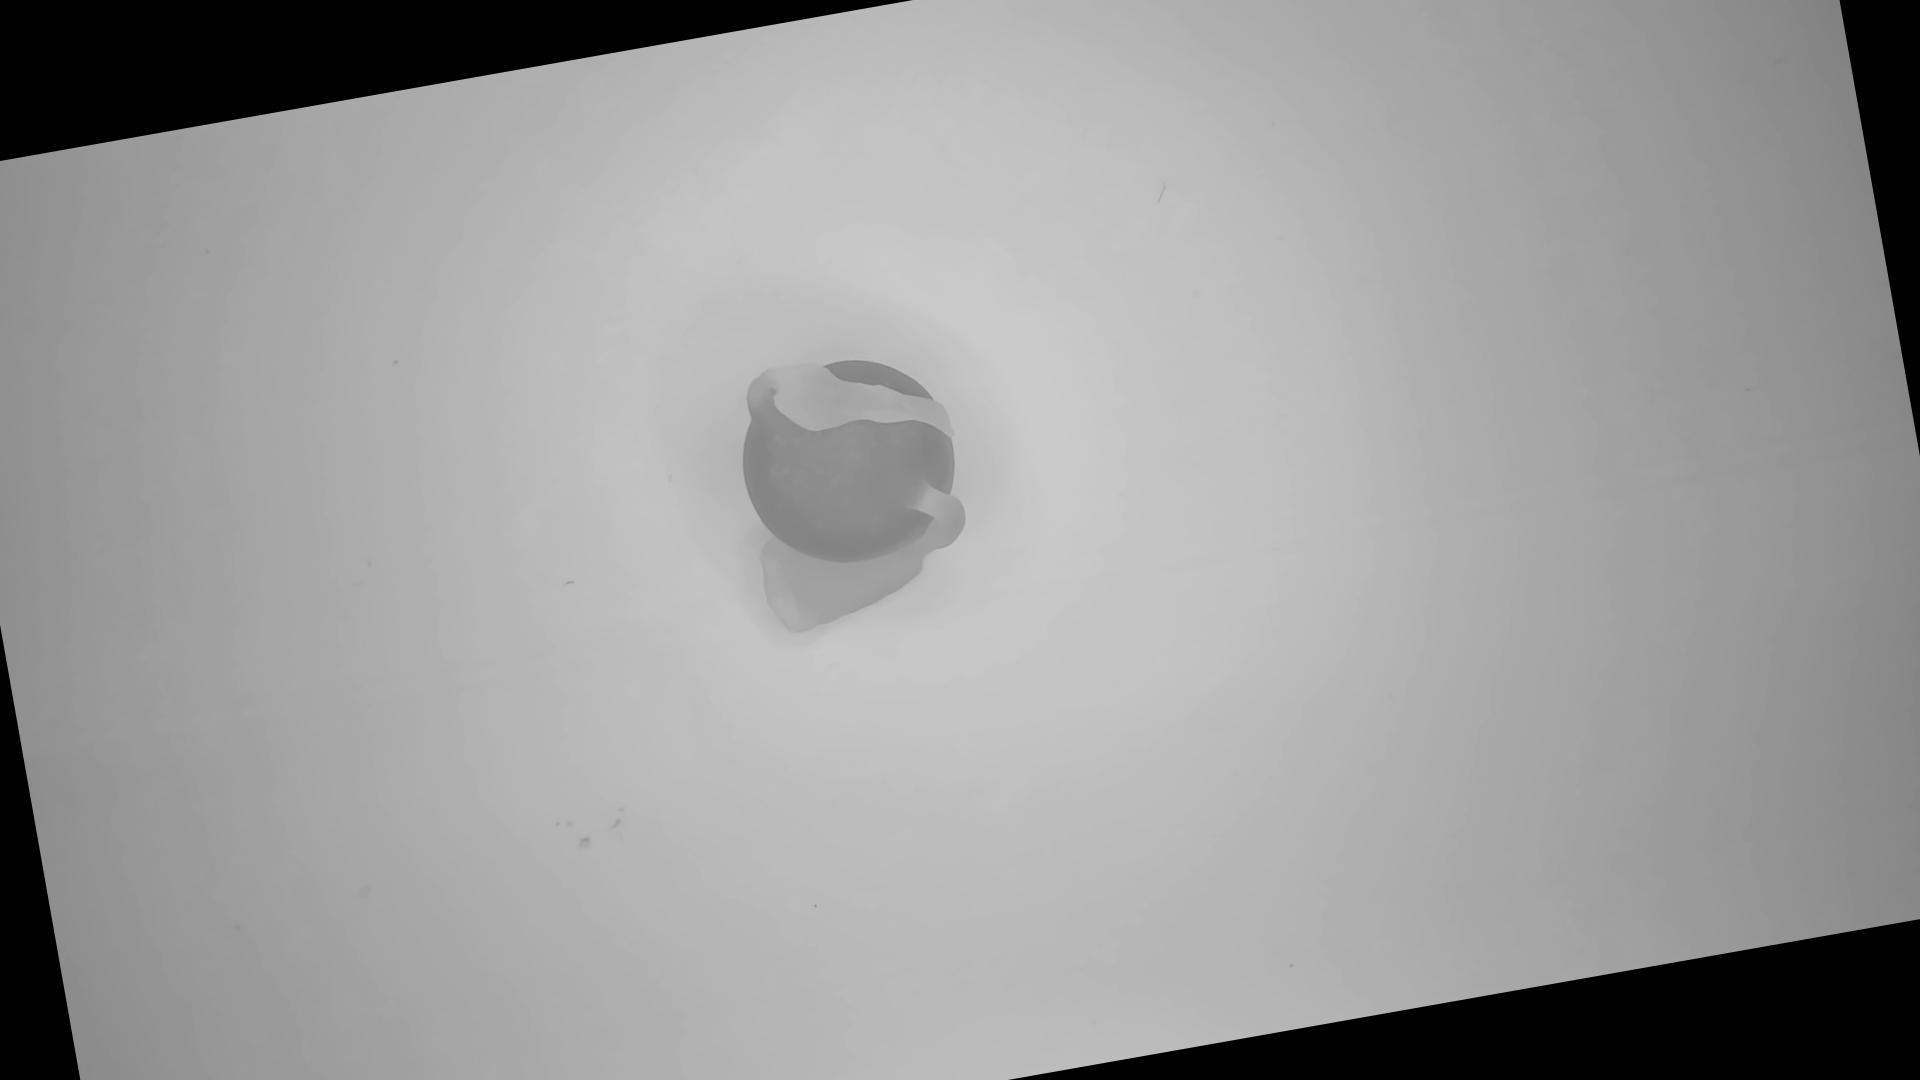abnormal: (723, 335, 989, 641)
